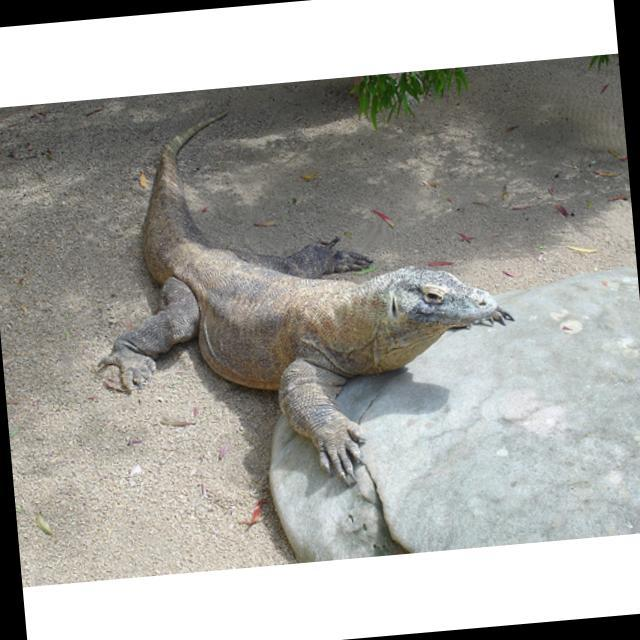KomodoDragon: (64, 75, 527, 511)
